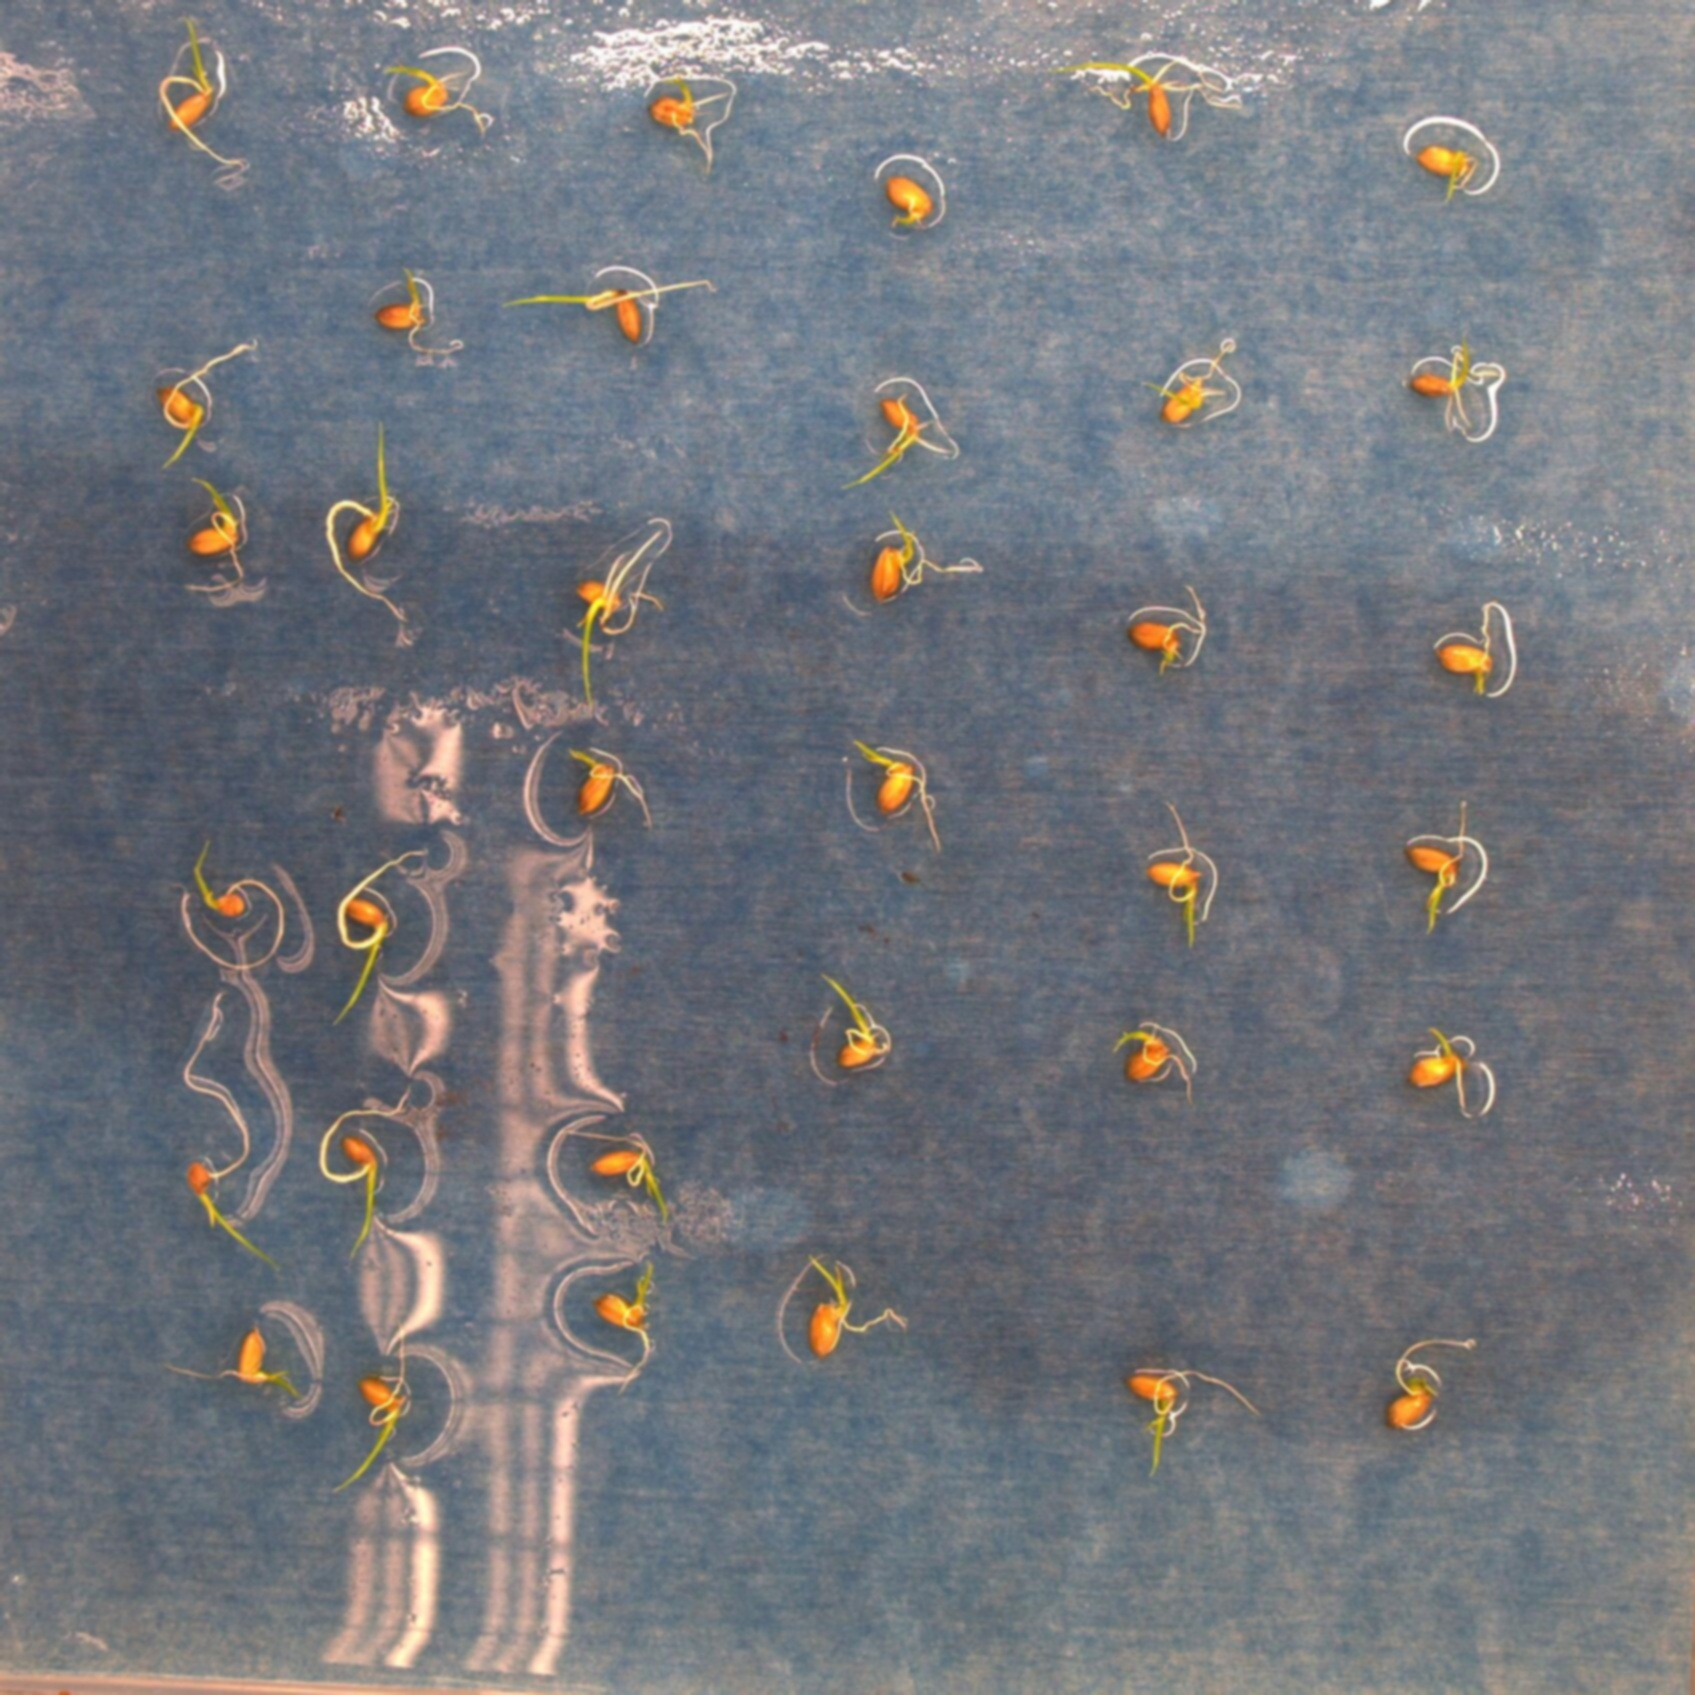not sprout: (1386, 1340, 1478, 1428), (885, 175, 934, 230)
sprout: (185, 990, 281, 1273), (331, 851, 427, 1028), (324, 421, 407, 624), (574, 528, 661, 714), (320, 1083, 411, 1259), (1125, 1367, 1260, 1479), (1048, 64, 1242, 140), (500, 276, 712, 343), (331, 1318, 410, 1493), (180, 838, 284, 972), (157, 19, 245, 168), (158, 341, 253, 472), (840, 393, 951, 494), (809, 1251, 908, 1360), (560, 1130, 671, 1228), (869, 508, 984, 601), (165, 1327, 307, 1402), (854, 737, 941, 847), (1147, 802, 1206, 948), (1405, 802, 1467, 938), (594, 1259, 655, 1394), (374, 265, 464, 355), (383, 64, 490, 137), (1139, 343, 1229, 425), (565, 747, 653, 826), (821, 972, 888, 1068), (186, 475, 244, 584), (1406, 1028, 1471, 1118), (1111, 1032, 1192, 1104), (647, 71, 712, 158), (1412, 332, 1470, 428), (1437, 602, 1495, 692), (1128, 619, 1200, 674), (1416, 143, 1478, 205)
